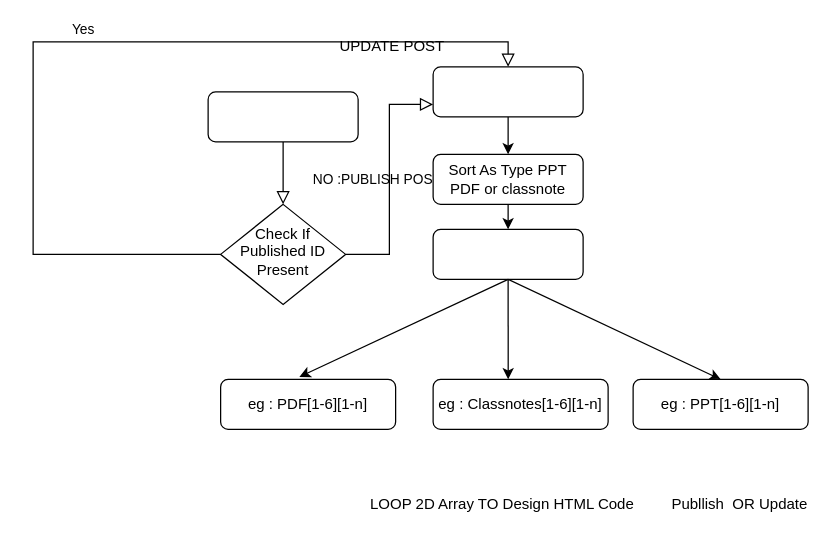
The diagram is 836 pixels wide and 539 high, and some of its shapes have lost their labels. Here are the shapes that lost their labels. From the top down, the centre of each, then its label:
At [507,91]: "Get All rows of same subject code".
At [282,116]: "New Found".
At [507,253]: "Sort as module wise".
